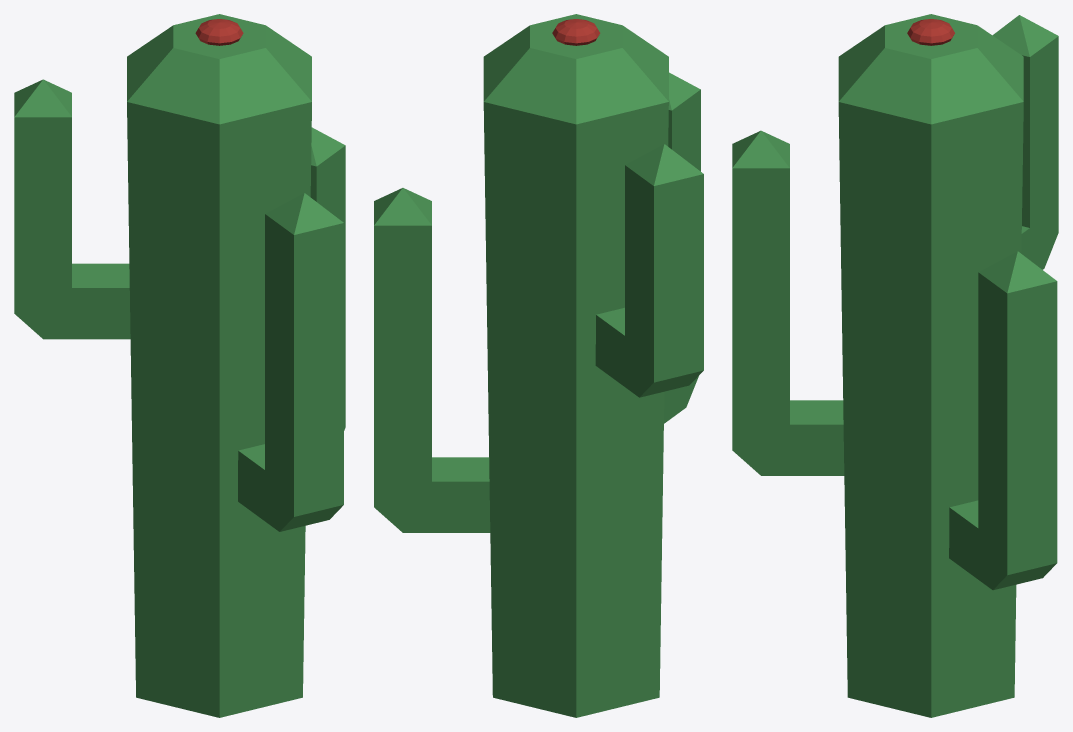
The model's file is cactus_tall.glb.
3 views of the same model, side by side, from view 1: azimuth 30°, elevation 25°; view 2: azimuth 150°, elevation 25°; view 3: azimuth 270°, elevation 25° (orthographic).
Visible parts, largest first — view 1: cactus_tall; view 2: cactus_tall; view 3: cactus_tall.
Boxes of the visible parts, x1,y1,x2,y2 form: cactus_tall: (14, 14, 345, 717); cactus_tall: (374, 14, 703, 717); cactus_tall: (732, 14, 1058, 717).
Size of the model in its own units: 0.3962 by 0.75 by 0.3391.
